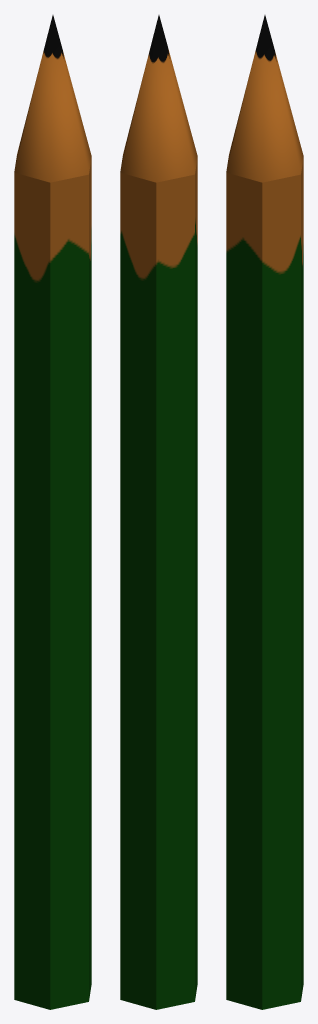
Rendered from dousakakunin.fbx.
3 renders of one model, left to right at view 1: azimuth 30°, elevation 25°; view 2: azimuth 210°, elevation 25°; view 3: azimuth 330°, elevation 25°, orthographic.
Visible parts, largest first — view 1: pCylinder1; view 2: pCylinder1; view 3: pCylinder1.
Boxes of the visible parts, x1=… form: pCylinder1: x1=14, y1=15, x2=91, y2=1009; pCylinder1: x1=120, y1=15, x2=197, y2=1009; pCylinder1: x1=226, y1=15, x2=303, y2=1009.
Size of the model in its own units: 0.9718 by 12.15 by 0.873.
1 material, 1 textured.
